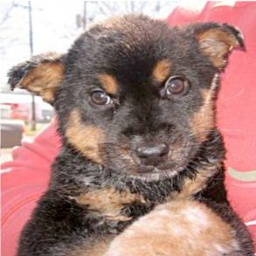dog: (9, 11, 256, 256)
